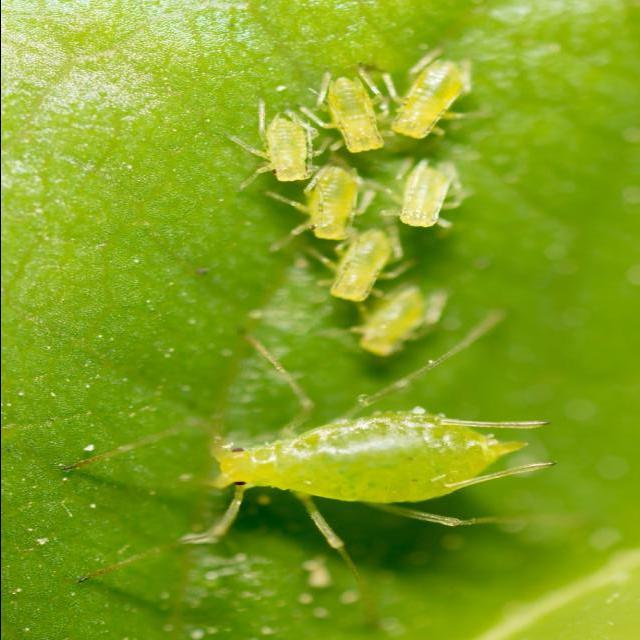aphid: (146, 366, 564, 579), (367, 150, 482, 240), (384, 48, 486, 144), (313, 218, 404, 313), (282, 154, 376, 244), (238, 98, 322, 198)
